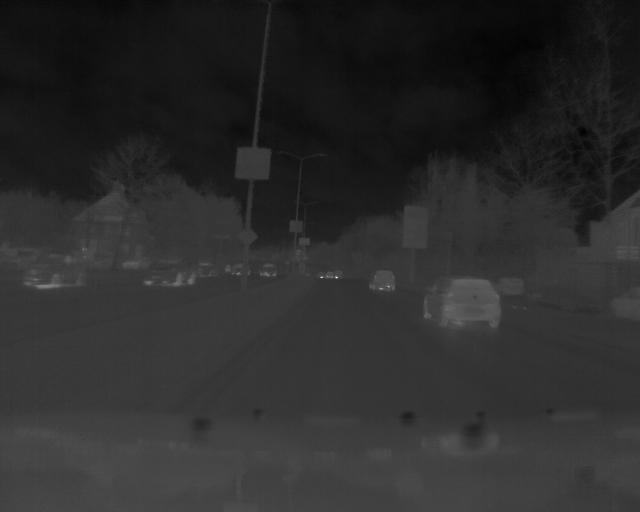car: (413, 271, 509, 335), (29, 255, 83, 288), (145, 263, 204, 281), (372, 269, 394, 290), (319, 267, 346, 283), (264, 263, 279, 278)
